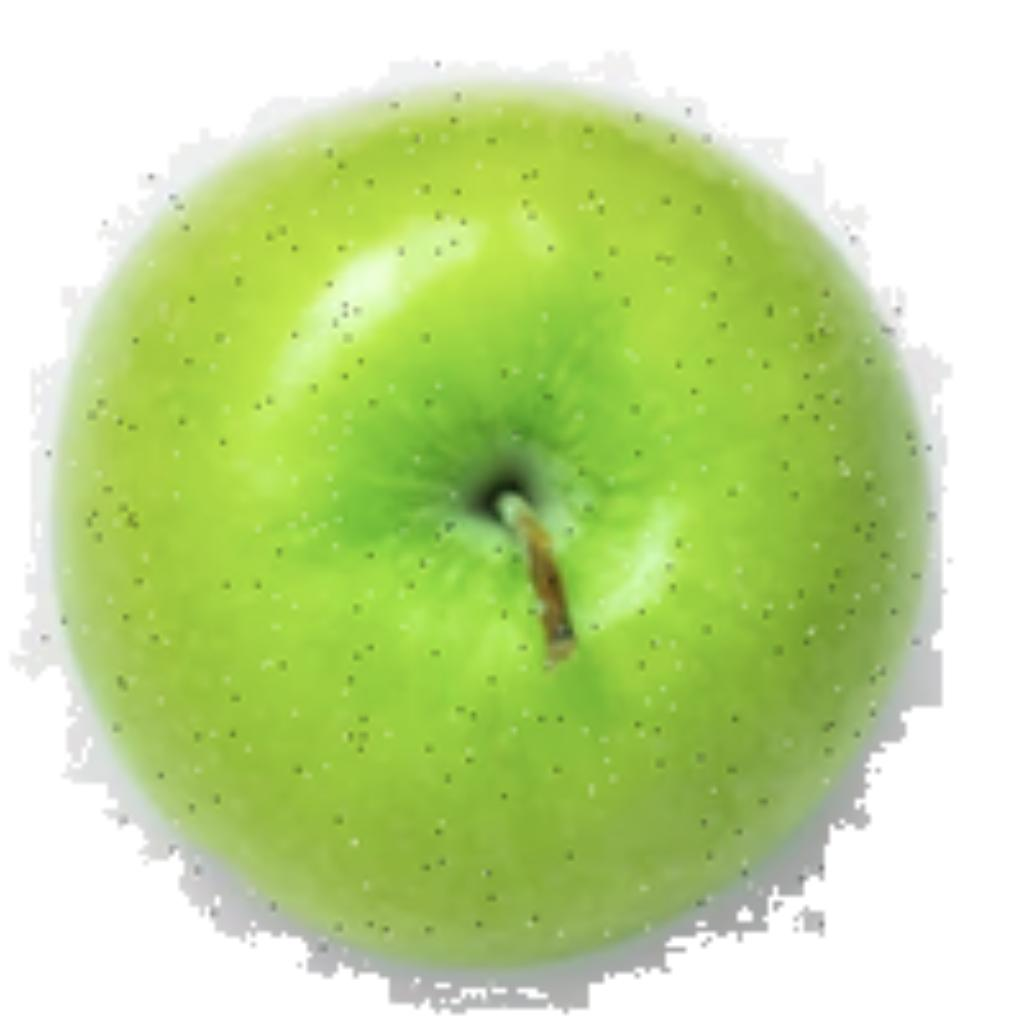apple: (5, 46, 952, 1014)
